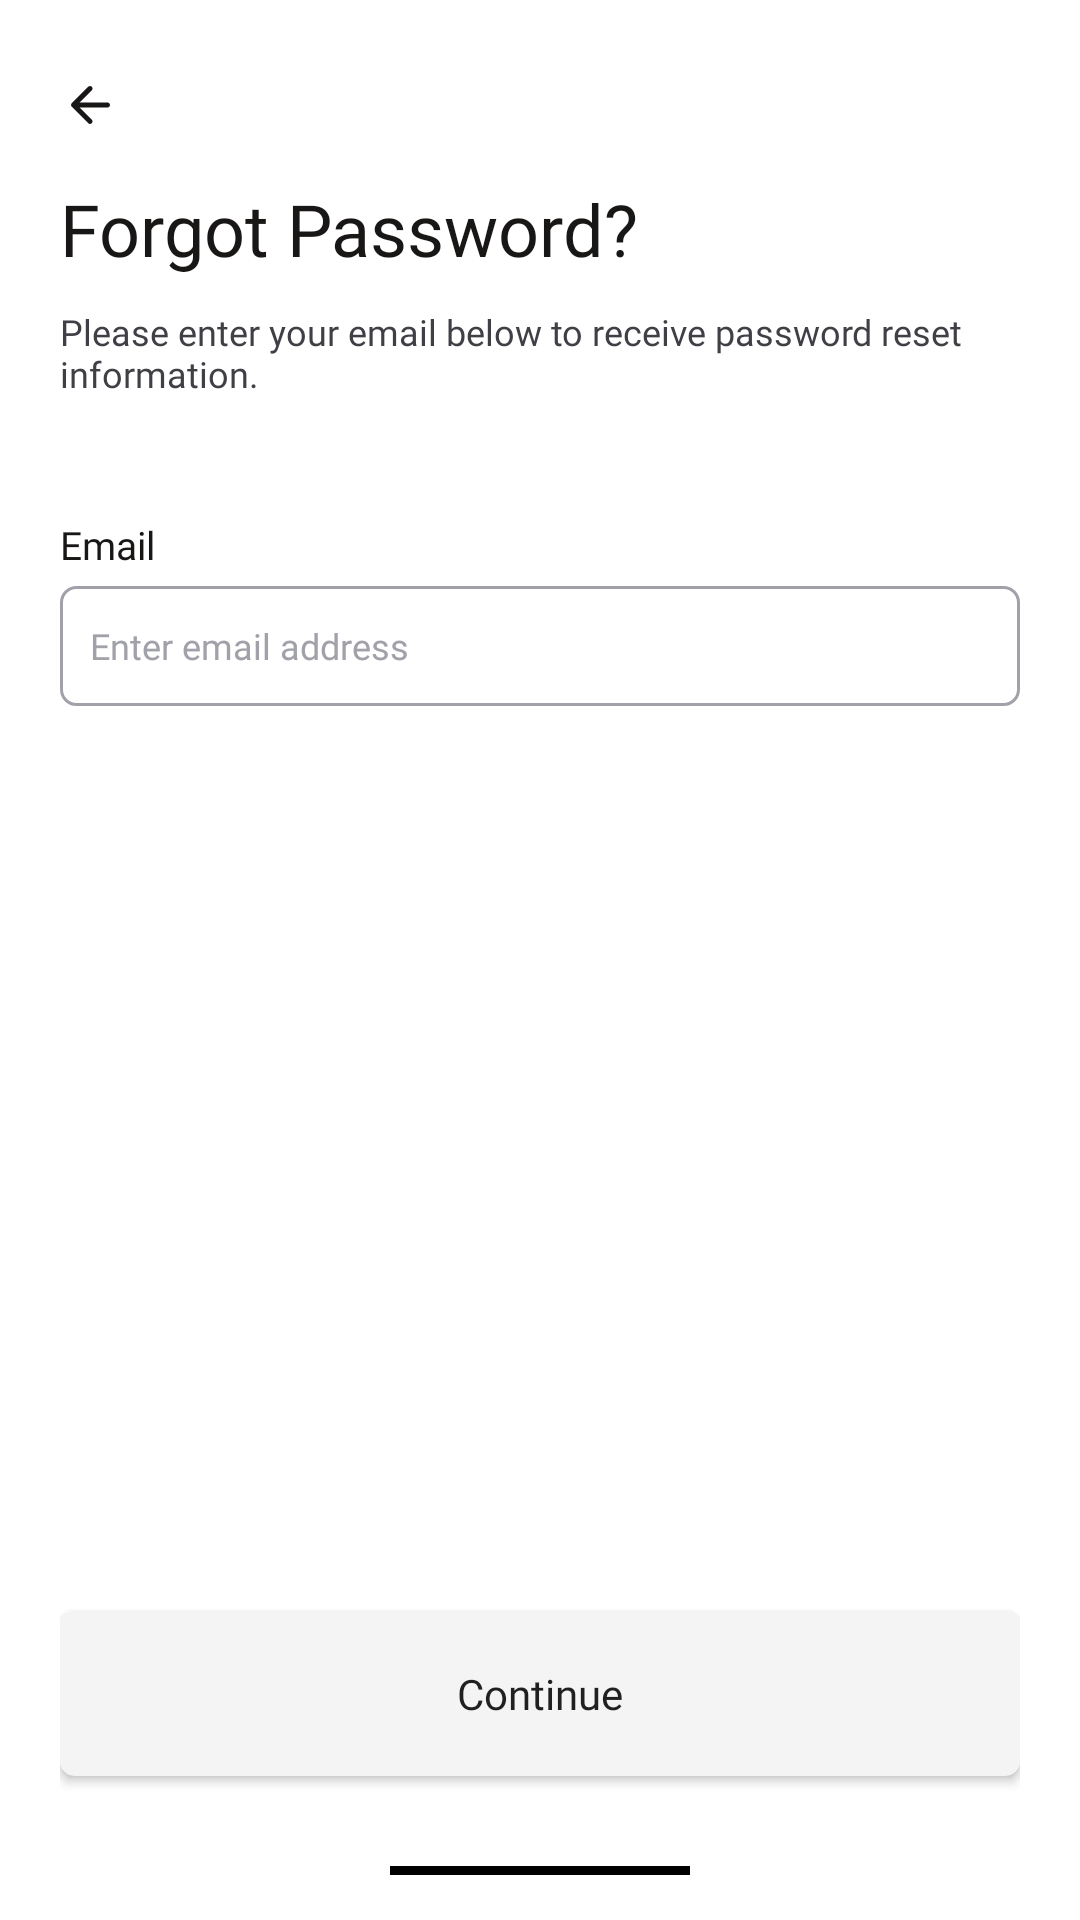

Point at icon controls on the screen. Image size 1080*1920, points as [x,y].
arrow left: [90,105]
